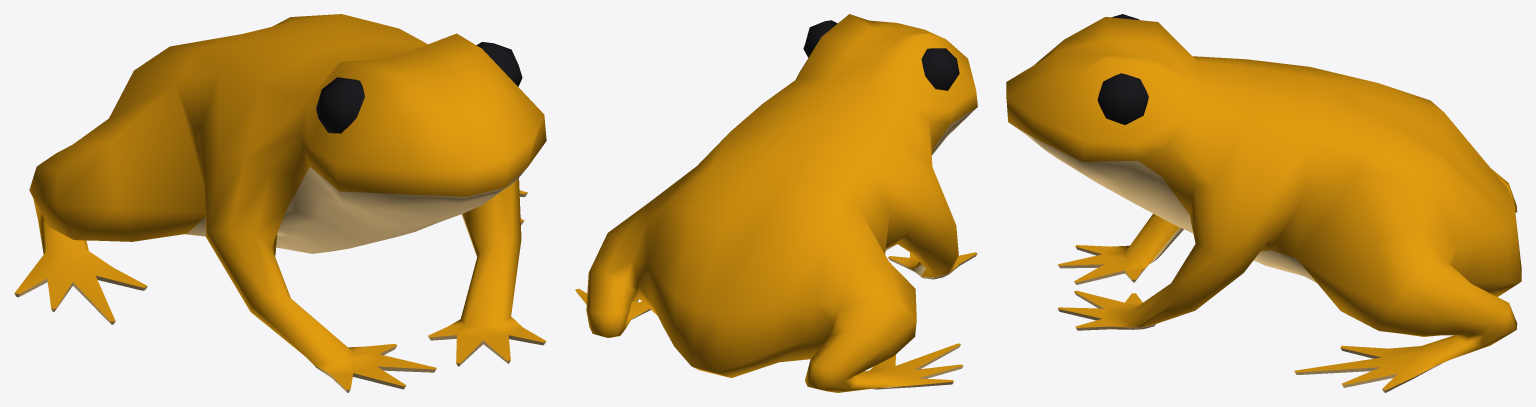
File: YellowFrog.glb
3 views of the same model, side by side, from view 1: azimuth 30°, elevation 25°; view 2: azimuth 150°, elevation 25°; view 3: azimuth 270°, elevation 25° (orthographic). The views are drawn at different scales.
Visible parts, largest first — view 1: Frog_3; view 2: Frog_3; view 3: Frog_3.
Part boxes in pixels (x1,y1,x2,y2): Frog_3: (14,14,546,392); Frog_3: (575,14,977,392); Frog_3: (1006,14,1521,392).
Size of the model in its own units: 0.2265 by 0.1278 by 0.2374.
1 material, 1 textured.
